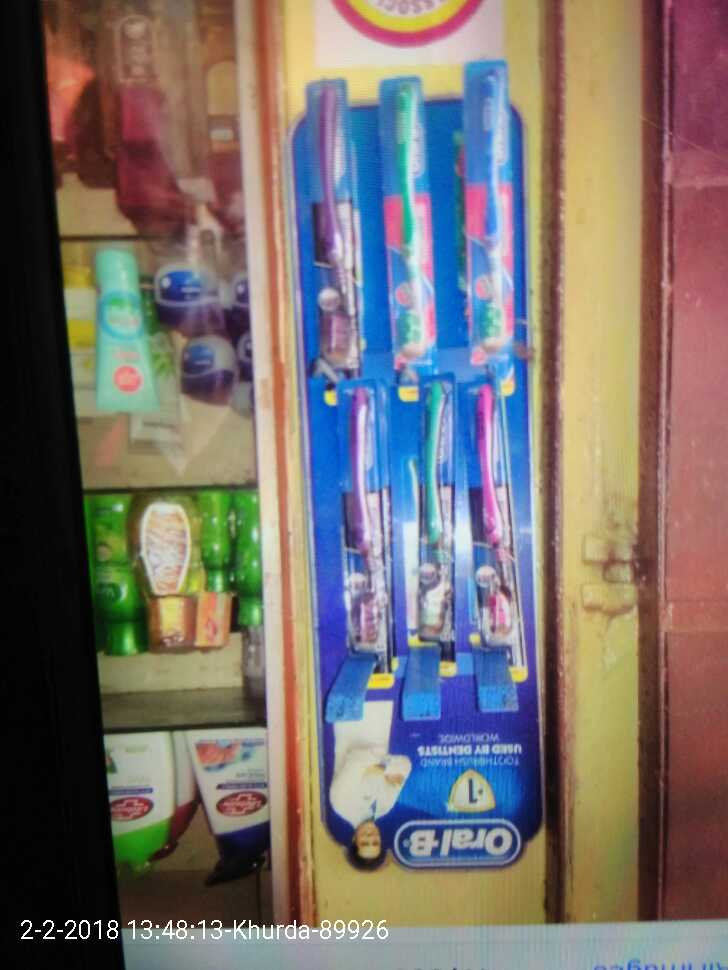oralb: (460, 378, 525, 678), (305, 77, 365, 373), (382, 73, 437, 370), (337, 373, 388, 655), (468, 58, 511, 353), (411, 378, 453, 652)
